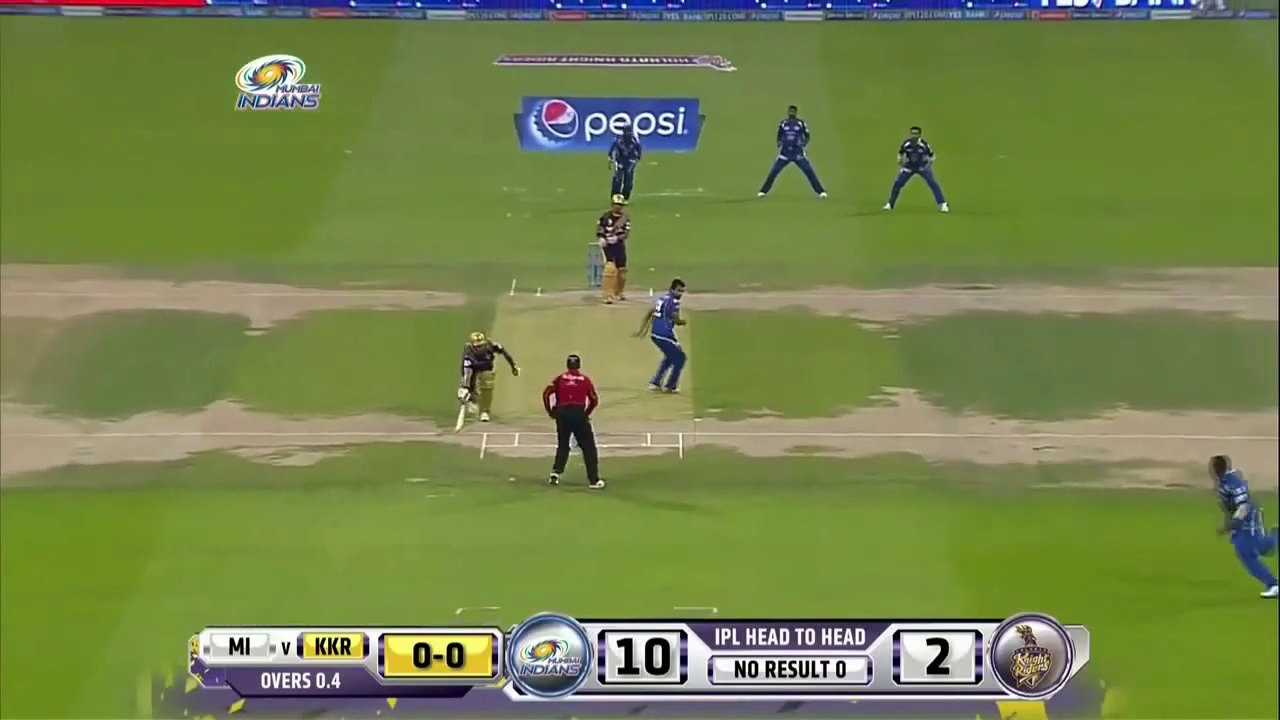bat: (452, 406, 469, 434)
